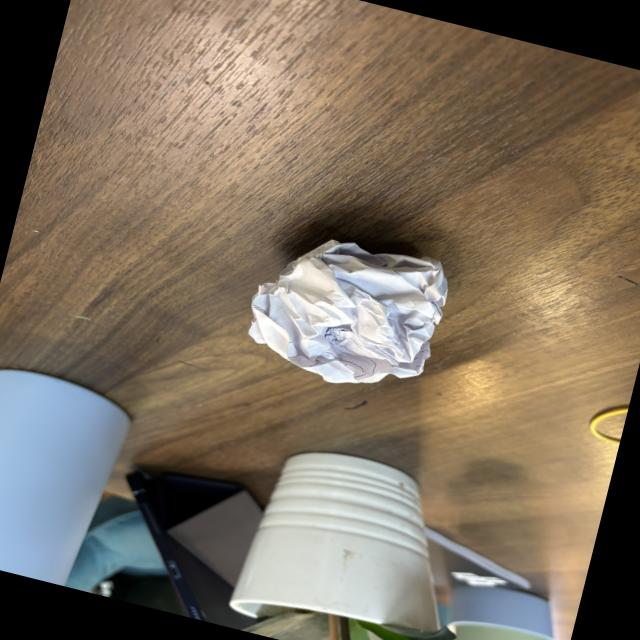crumpled_paper: (228, 206, 470, 416)
